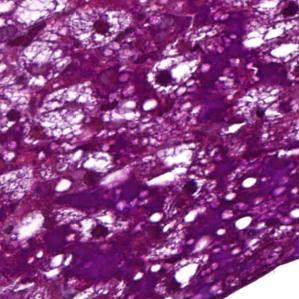ballooning: (144, 53, 206, 99)
